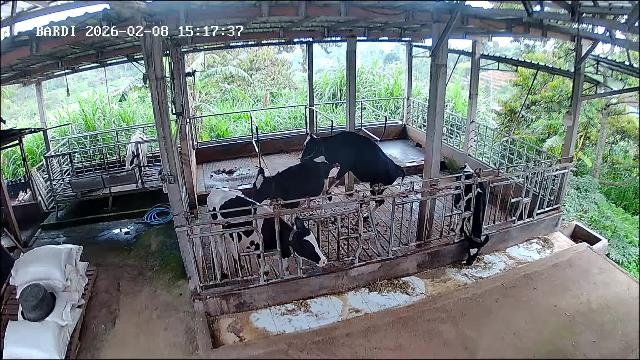mounting: (300, 132, 404, 226)
